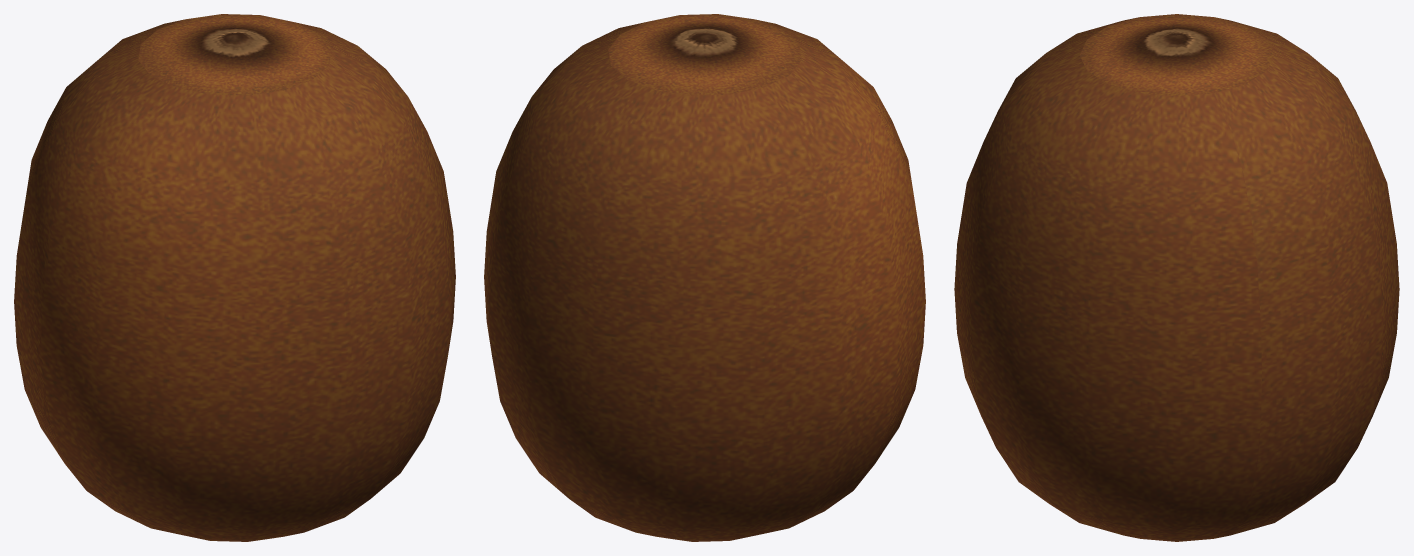
Rendered from Kiwi_Whole.fbx.
3 renders of one model, left to right at view 1: azimuth 30°, elevation 25°; view 2: azimuth 150°, elevation 25°; view 3: azimuth 270°, elevation 25°, orthographic.
Visible parts, largest first — view 1: Kiwi_Whole; view 2: Kiwi_Whole; view 3: Kiwi_Whole.
Boxes of the visible parts, <box> form: Kiwi_Whole: <box>14,14,455,541</box>; Kiwi_Whole: <box>484,14,925,541</box>; Kiwi_Whole: <box>954,14,1399,541</box>.
Bounding box in the file's own units: 26.59 × 31.68 × 26.59.
